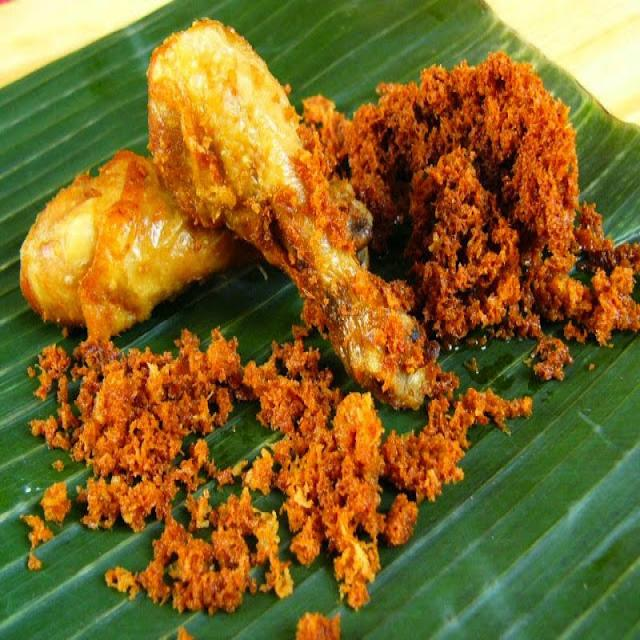Wet: (140, 10, 433, 418), (12, 145, 417, 345)
